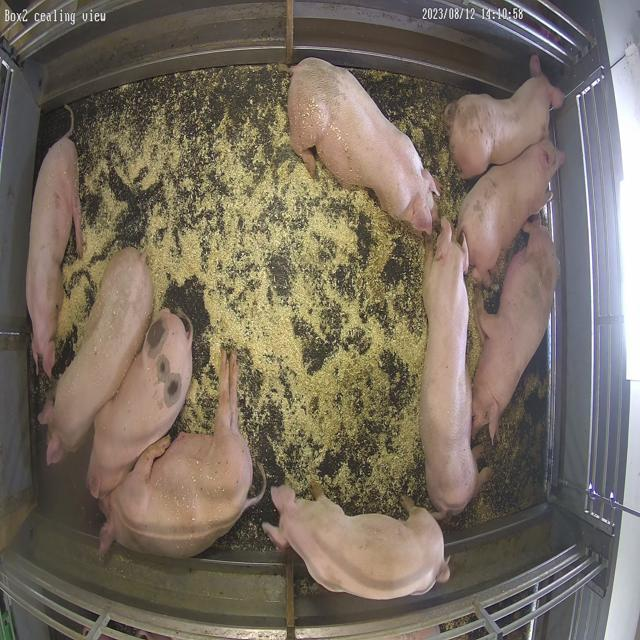Dirt: (450, 343, 549, 529), (351, 68, 462, 194), (148, 65, 293, 160)
Pig: (100, 353, 264, 558), (288, 58, 438, 234), (42, 248, 153, 464), (263, 486, 450, 601), (87, 309, 192, 498), (474, 216, 559, 440), (421, 218, 478, 516), (459, 139, 566, 284), (25, 116, 82, 376), (446, 56, 566, 178)
